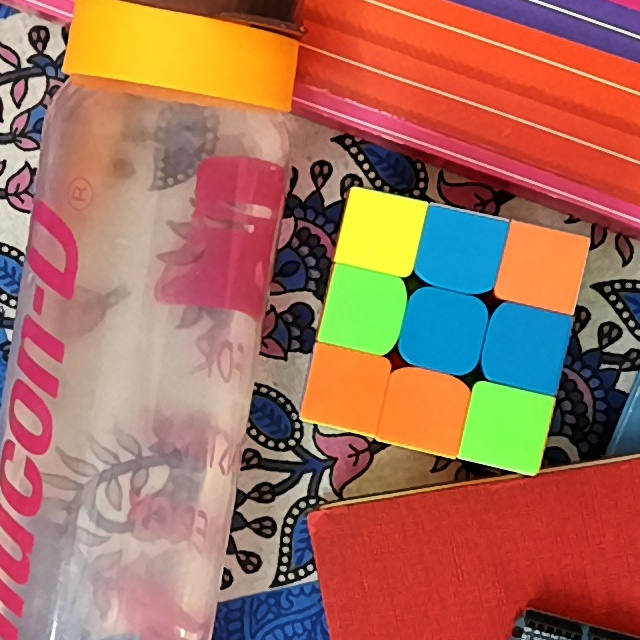tile: (475, 393, 538, 459), (391, 378, 458, 440), (511, 237, 574, 297), (411, 299, 476, 357), (496, 315, 556, 377), (429, 222, 491, 281), (315, 361, 377, 419), (335, 280, 397, 337), (350, 203, 410, 260)
